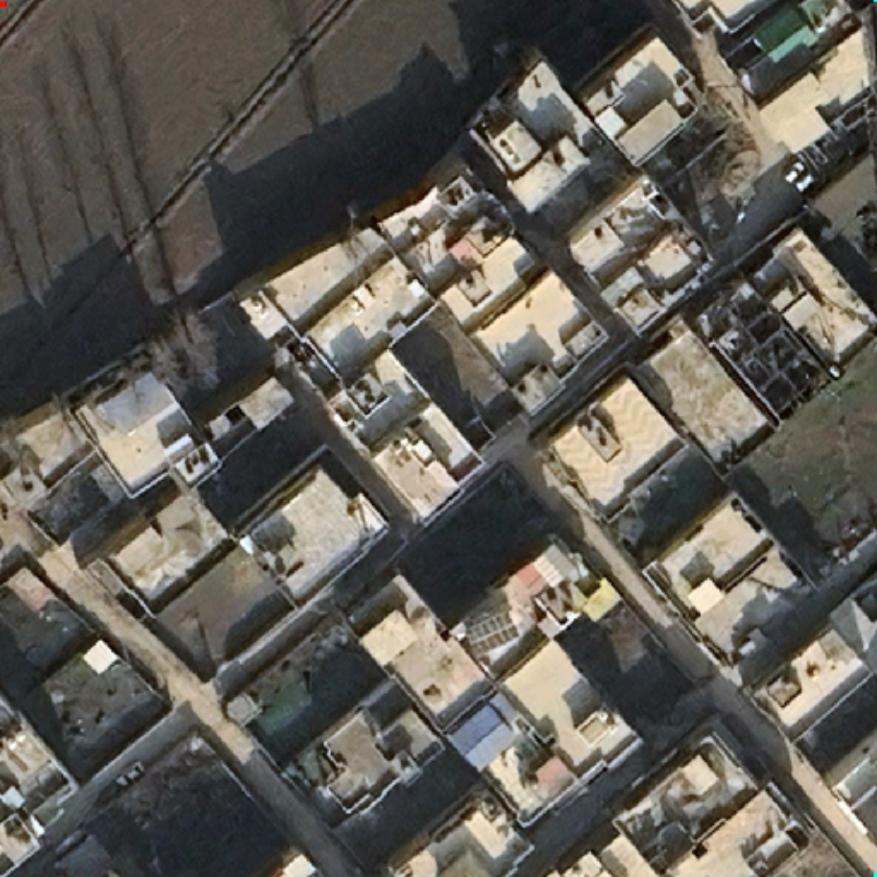Solarpanel: (458, 607, 524, 663)
